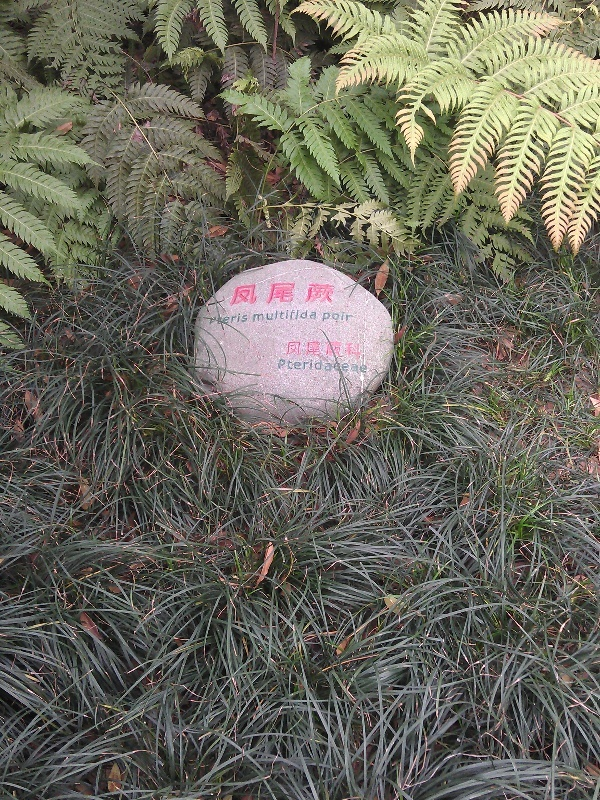text: (321, 281, 337, 306), (241, 281, 256, 306), (257, 281, 272, 306), (273, 281, 288, 306), (289, 281, 304, 306), (305, 281, 320, 306), (289, 338, 304, 361), (305, 338, 320, 361), (321, 338, 336, 361), (337, 338, 352, 361), (289, 357, 304, 376), (305, 357, 320, 376), (321, 357, 336, 376), (337, 357, 352, 376), (353, 357, 368, 376), (337, 310, 352, 326), (322, 310, 336, 326), (209, 313, 224, 327), (225, 313, 240, 327), (257, 308, 272, 322), (273, 308, 288, 322), (289, 308, 304, 322), (277, 357, 288, 376), (353, 338, 362, 361), (232, 281, 240, 306), (305, 308, 317, 322), (241, 313, 249, 327), (253, 308, 256, 322), (287, 338, 288, 361), (369, 357, 370, 376), (353, 310, 354, 326)
